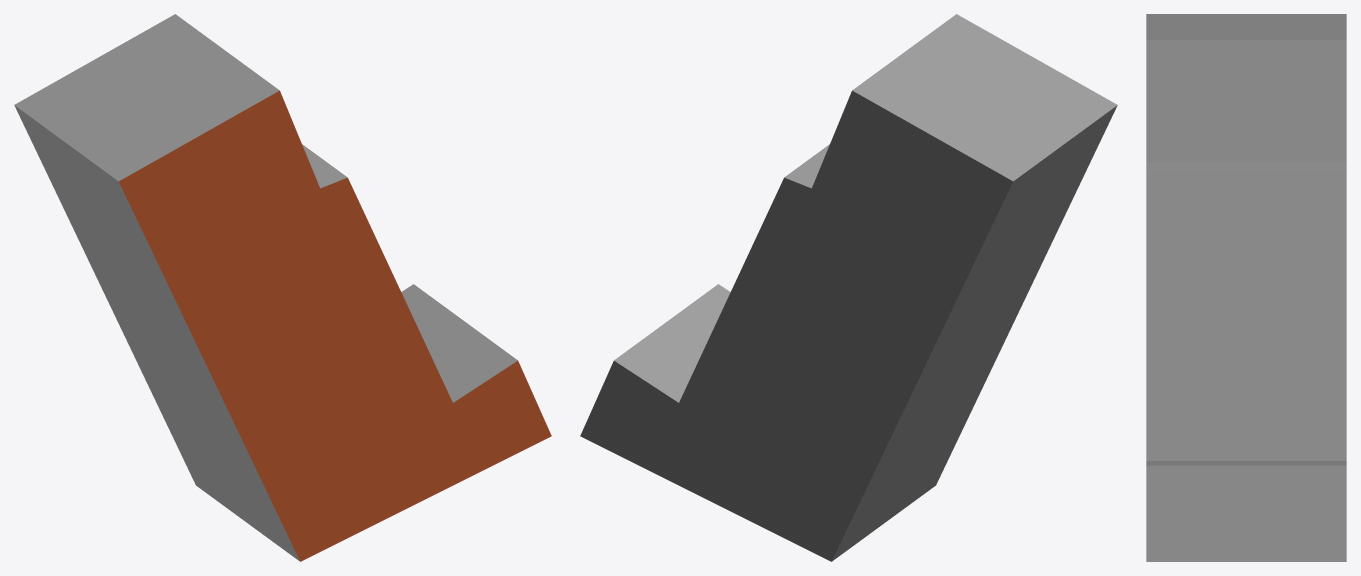
Rendered from construction_0757_assumed_A_Casa_h6m.obj.
The picture shows the model from 3 angles, left to right: view 1: azimuth 30°, elevation 25°; view 2: azimuth 150°, elevation 25°; view 3: azimuth 270°, elevation 25°; orthographic projection. The views are drawn at different scales.
Visible parts, largest first — view 1: construction_0757_assumed_A_Casa; view 2: construction_0757_assumed_A_Casa; view 3: construction_0757_assumed_A_Casa.
Boxes of the visible parts, bbox=[...] form: construction_0757_assumed_A_Casa: bbox=[14, 14, 551, 561]; construction_0757_assumed_A_Casa: bbox=[580, 14, 1117, 561]; construction_0757_assumed_A_Casa: bbox=[1146, 14, 1346, 561].
Bounding box in the file's own units: 14.36 × 15.09 × 6.
